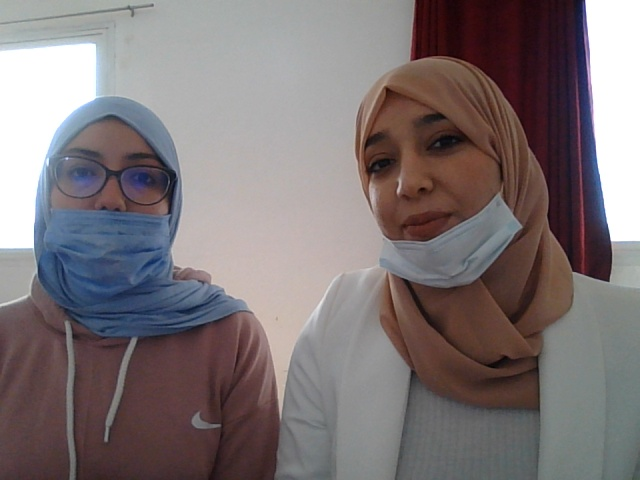mask_weared_incorrect: (337, 53, 563, 314), (47, 94, 171, 302)
